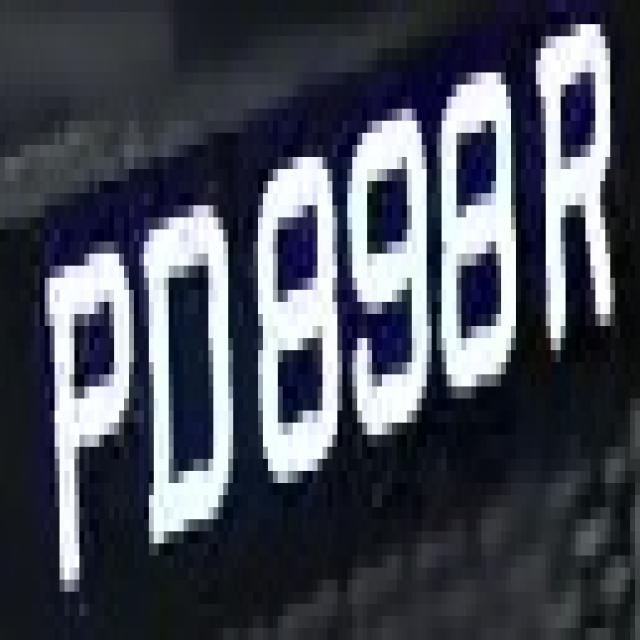8: (422, 24, 546, 459), (233, 109, 357, 531)
9: (328, 60, 437, 508)
D: (129, 181, 243, 568)
P: (25, 241, 149, 604)
R: (516, 12, 630, 362)
